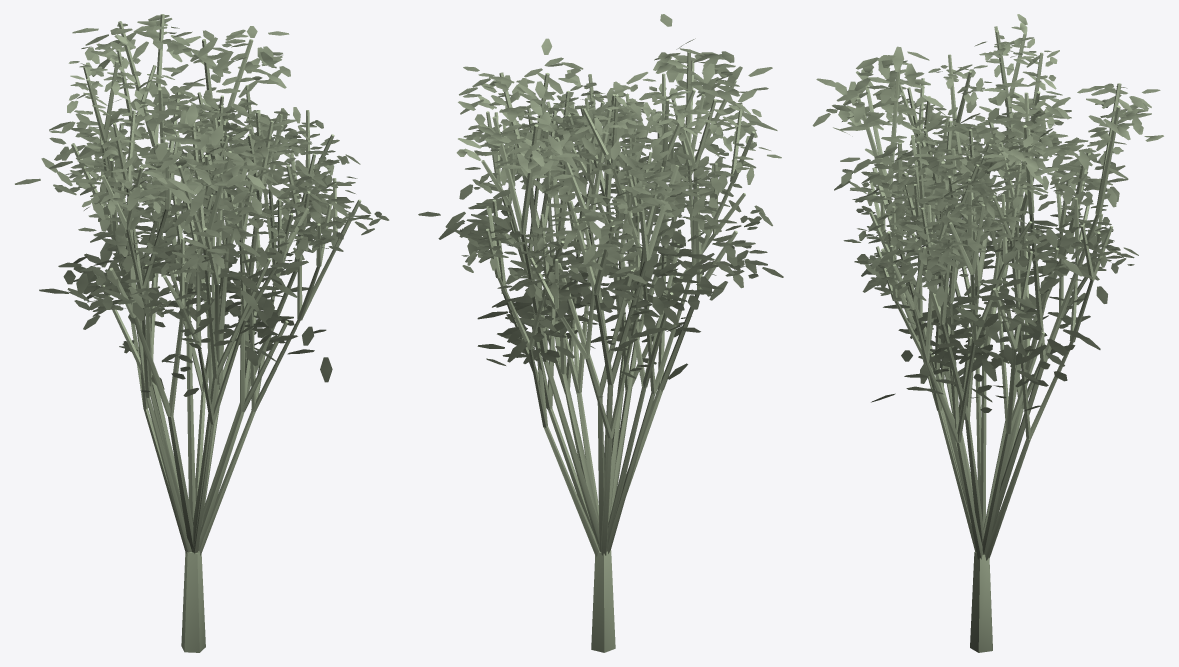
File: tree_elm.glb
3 renders of one model, left to right at view 1: azimuth 30°, elevation 25°; view 2: azimuth 150°, elevation 25°; view 3: azimuth 270°, elevation 25°, orthographic. The views are drawn at different scales.
Parts seen in each view (by area): view 1: tier1_foliage, tier2_bark, tier2_foliage, tier0_foliage, tier1_bark, tier0_bark; view 2: tier1_foliage, tier2_bark, tier0_foliage, tier1_bark, tier2_foliage, tier0_bark; view 3: tier1_foliage, tier2_foliage, tier2_bark, tier0_foliage, tier1_bark, tier0_bark.
Part boxes in pixels (<box>): tier1_foliage: <box>15,15,351,396</box>; tier2_bark: <box>83,49,361,555</box>; tier2_foliage: <box>67,34,389,353</box>; tier0_foliage: <box>39,88,349,382</box>; tier1_bark: <box>71,14,314,652</box>; tier0_bark: <box>96,123,293,552</box>; tier1_foliage: <box>456,38,783,379</box>; tier2_bark: <box>481,73,754,556</box>; tier0_foliage: <box>418,14,777,365</box>; tier1_bark: <box>492,72,737,652</box>; tier2_foliage: <box>461,78,781,397</box>; tier0_bark: <box>486,52,736,551</box>; tier1_foliage: <box>834,82,1163,398</box>; tier2_foliage: <box>843,14,1138,376</box>; tier2_bark: <box>869,26,1112,560</box>; tier0_foliage: <box>812,46,1107,412</box>; tier1_bark: <box>872,83,1121,652</box>; tier0_bark: <box>857,68,1059,554</box>.
Bounding box in the file's own units: 0.5344 × 1 × 0.5462.
